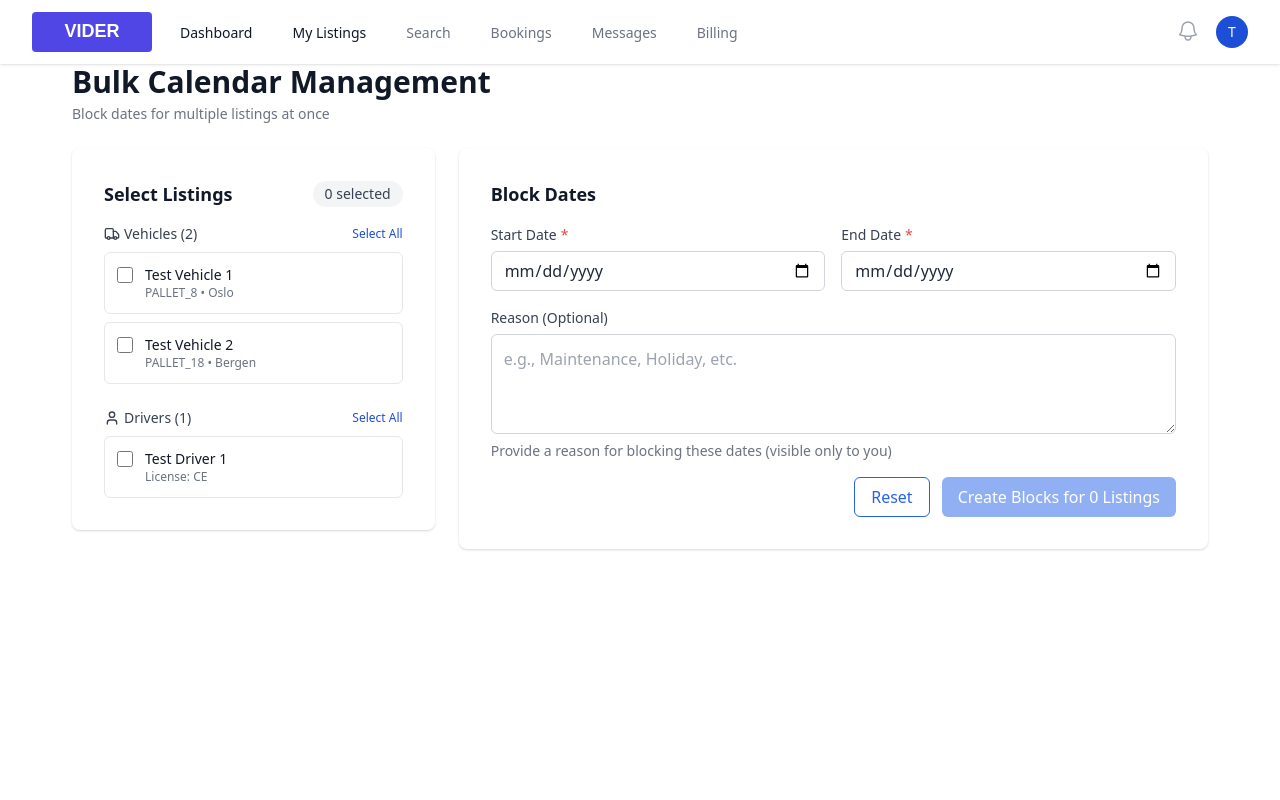
Test: BulkCalendarManagementPage › clears selection when clear button is clicked
expect the text "Test Vehicle 1" is shown: met, box 145,265 -> 233,284
# Select a listing
What coordinates should you click on to do the following:
click the checkbox labelled "Test Vehicle 1 PALLET_8 • Oslo"
I would click on:
 (125, 275)
Its box is 117,267 -> 133,283.
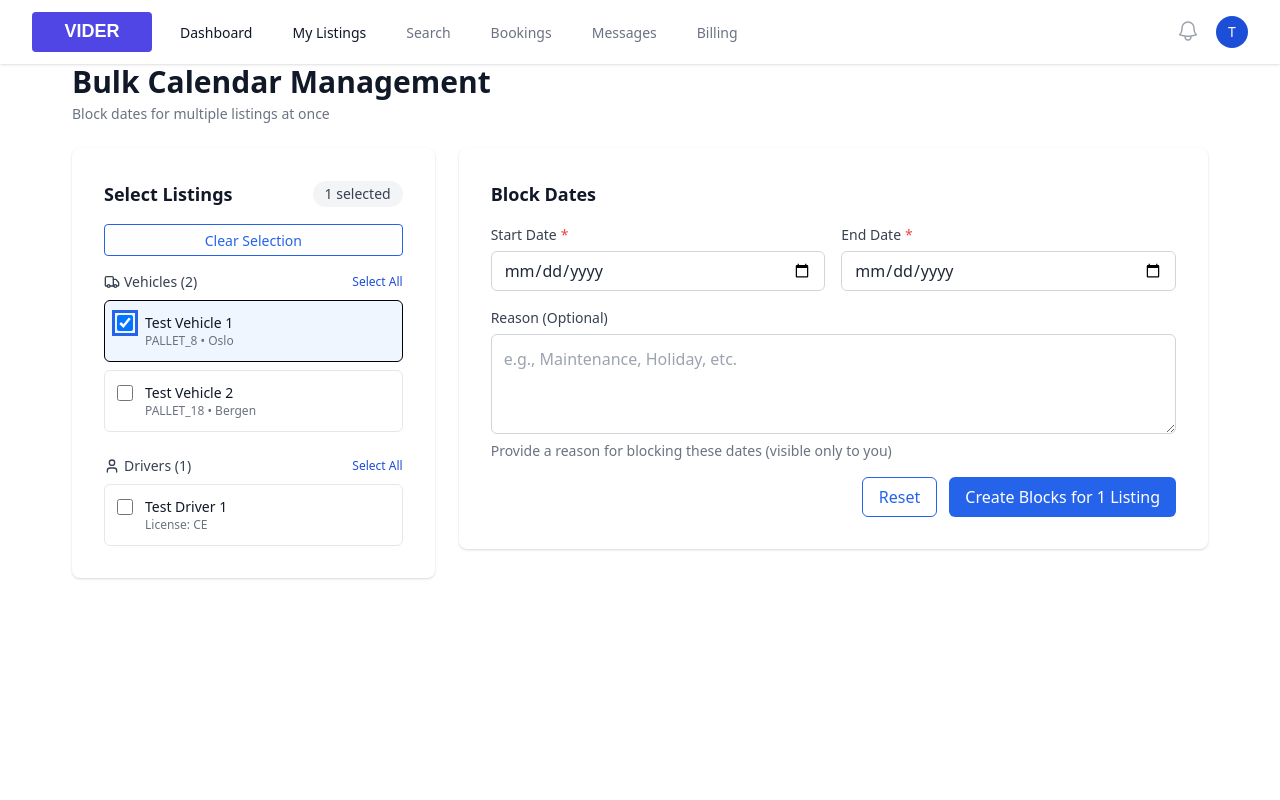
expect the text "1 selected" is shown: met, box 313,181 -> 403,207
# Click clear selection
What coordinates should you click on to do the following:
click the button "Clear Selection"
I would click on:
 (253, 240)
Its box is 104,224 -> 403,256.
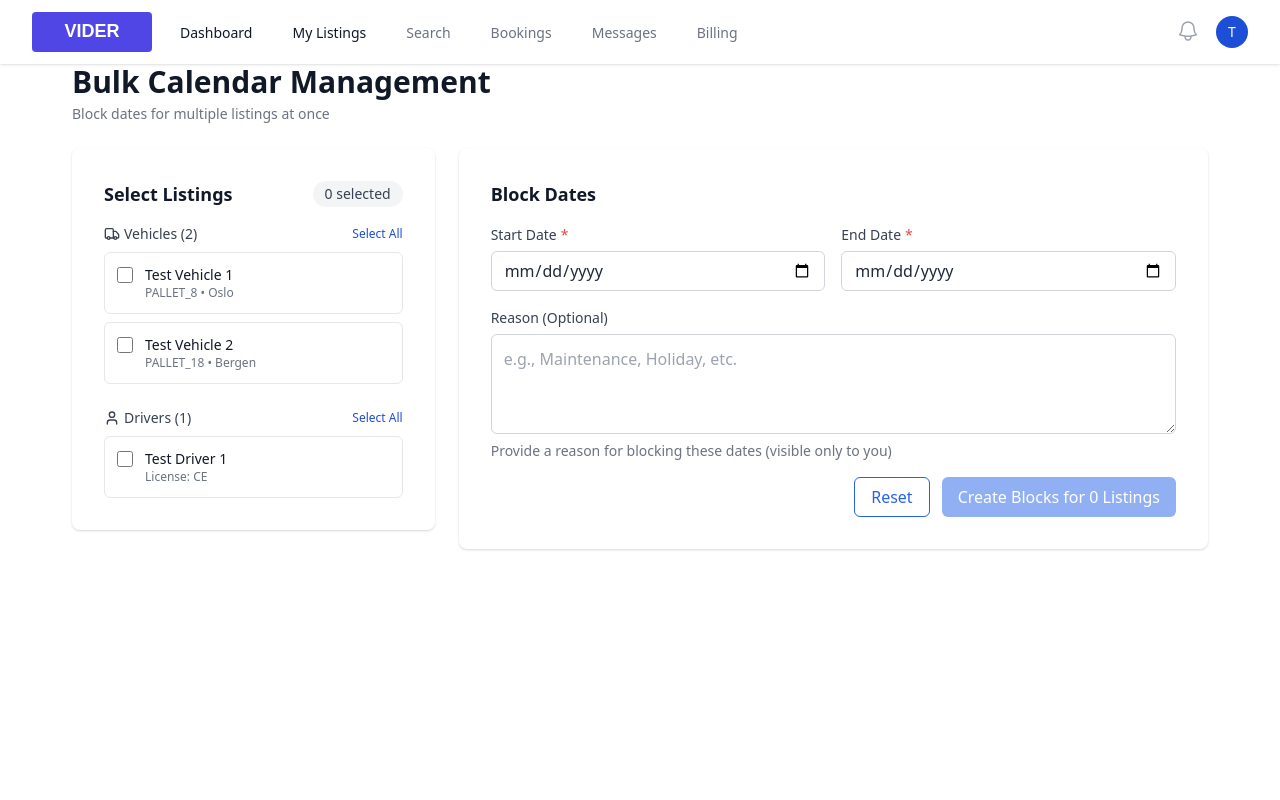
expect the text "0 selected" is shown: met, box 313,181 -> 403,207
